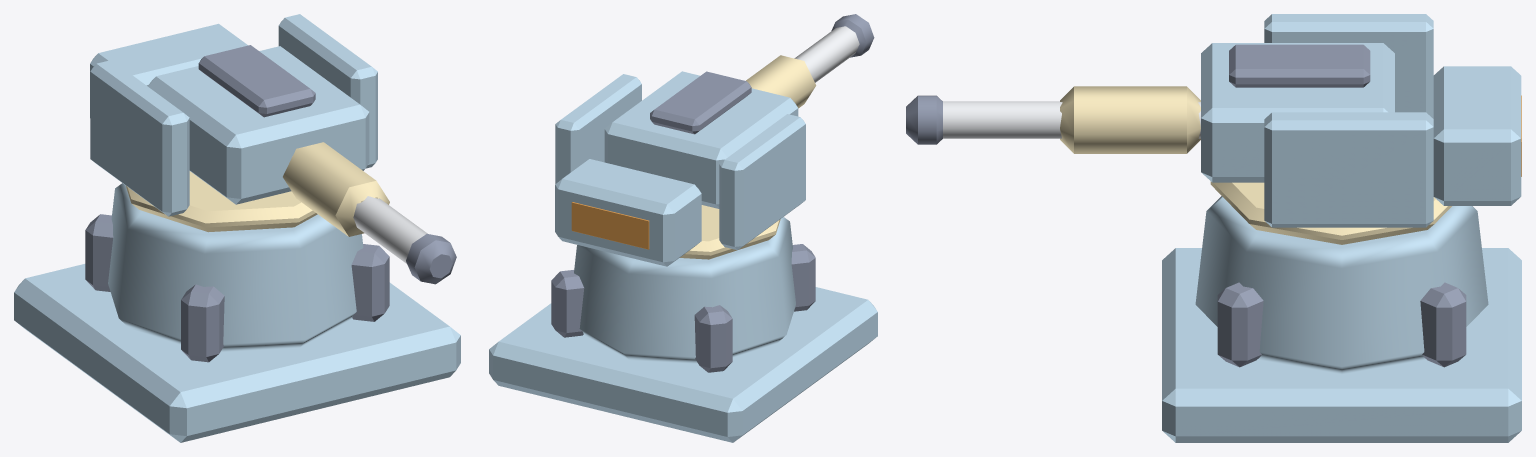
Rendered from R4W_Basic_LOD1.glb.
The picture shows the model from 3 angles, left to right: view 1: azimuth 30°, elevation 25°; view 2: azimuth 150°, elevation 25°; view 3: azimuth 270°, elevation 25°; orthographic projection. The views are drawn at different scales.
Visible parts, largest first — view 1: R4W_Basic_LOD1; view 2: R4W_Basic_LOD1; view 3: R4W_Basic_LOD1.
Boxes of the visible parts, x1,y1,x2,y2 form: R4W_Basic_LOD1: (14, 14, 460, 442); R4W_Basic_LOD1: (489, 14, 877, 442); R4W_Basic_LOD1: (906, 14, 1521, 442).
Size of the model in its own units: 0.51 by 0.494 by 0.873.
